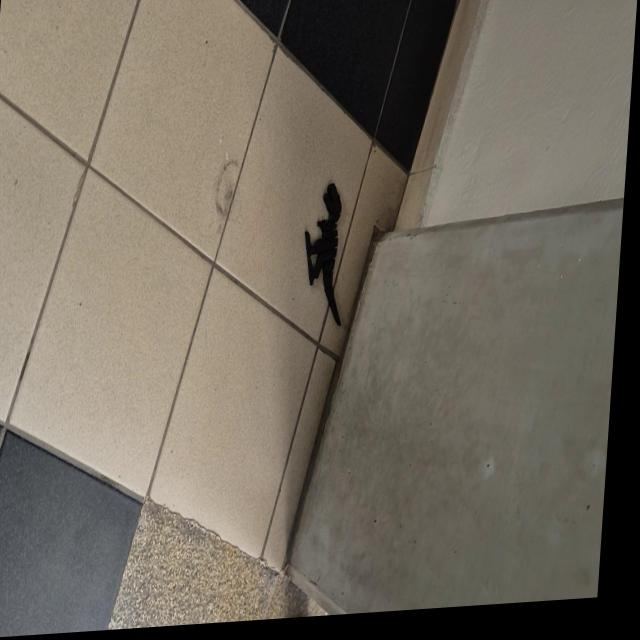dino: (297, 181, 350, 330)
